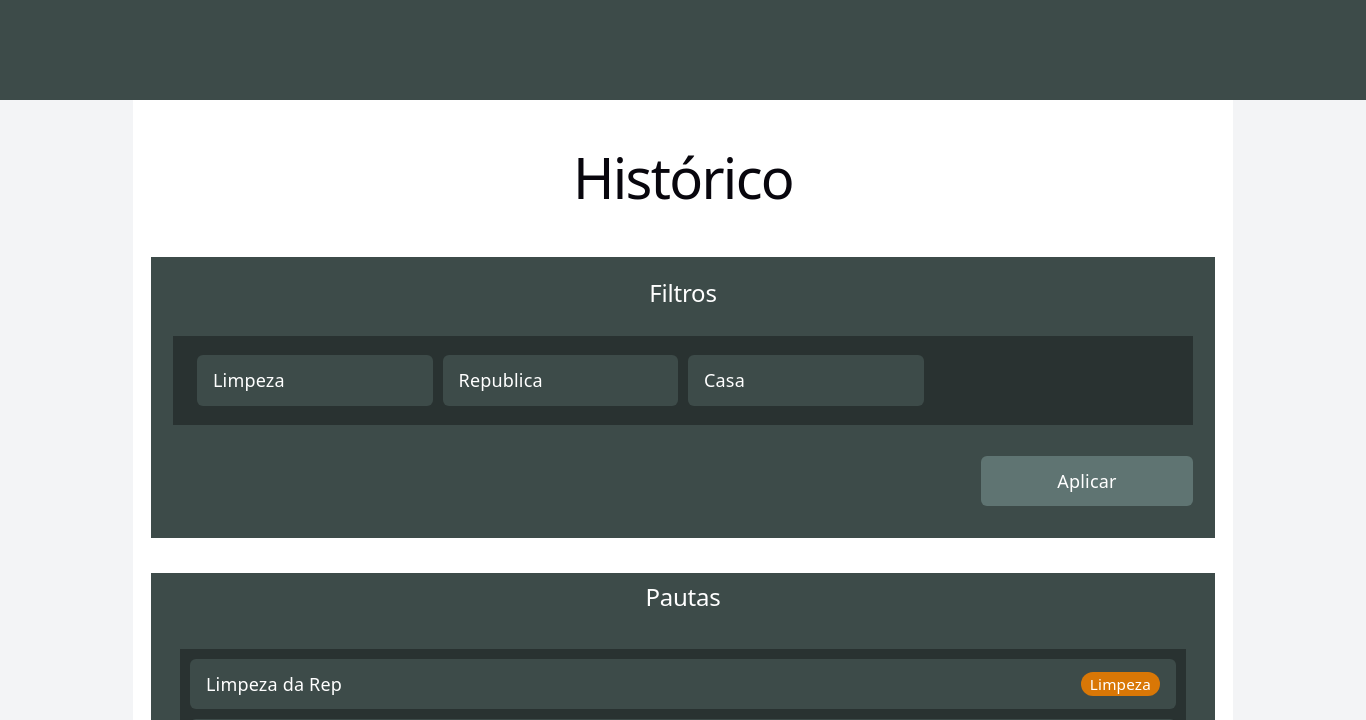
Test case: pagina Historico › aplica os filtros selecionados somente ao clicar em Aplicar
Click the button "Casa" at (806, 380), box [688,355,924,406]
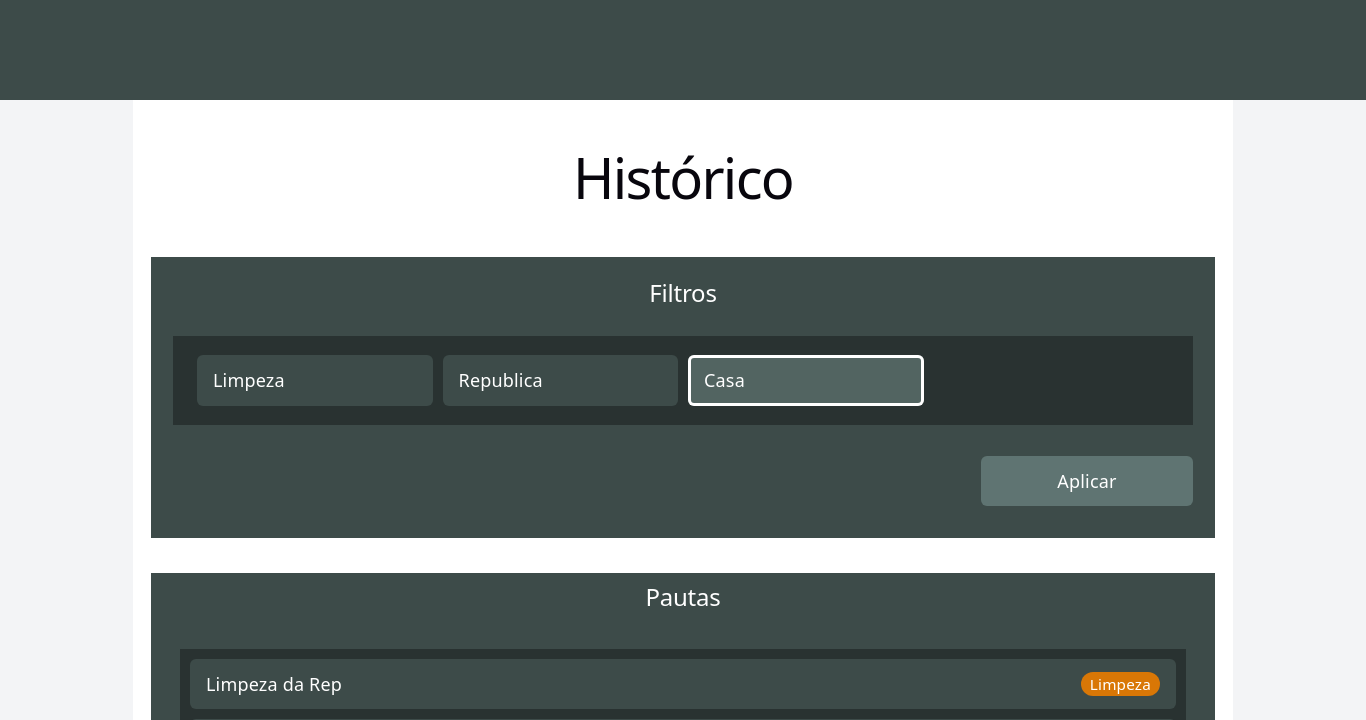
Check: the button "Limpeza da Rep Limpeza" is shown, box [190,659,1176,709]
Click the button "Aplicar" at (1087, 481), box [981,456,1193,506]
(page scrolled)
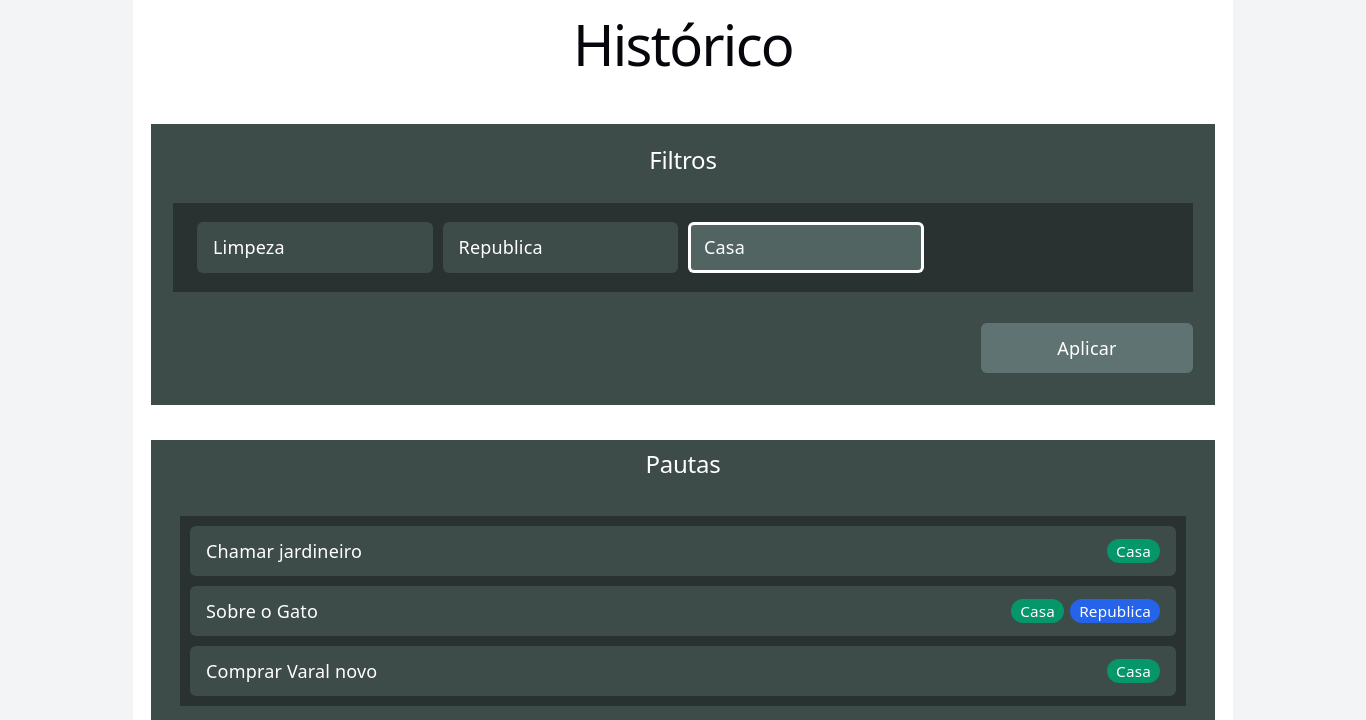
Check: the button "Chamar jardineiro Casa" is shown, box [190,526,1176,576]
Check: the button "Limpeza da Rep" is gone
